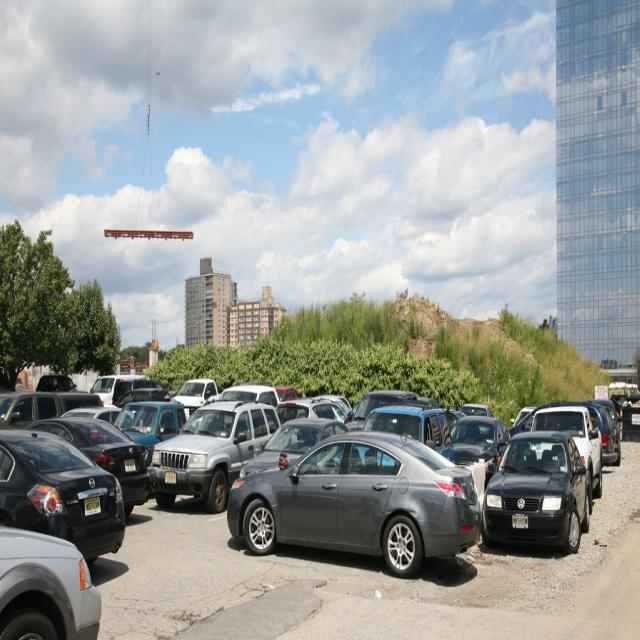other: (0, 370, 502, 560), (229, 430, 485, 581), (481, 431, 591, 554), (0, 518, 102, 639), (492, 398, 617, 467), (589, 398, 623, 463)
